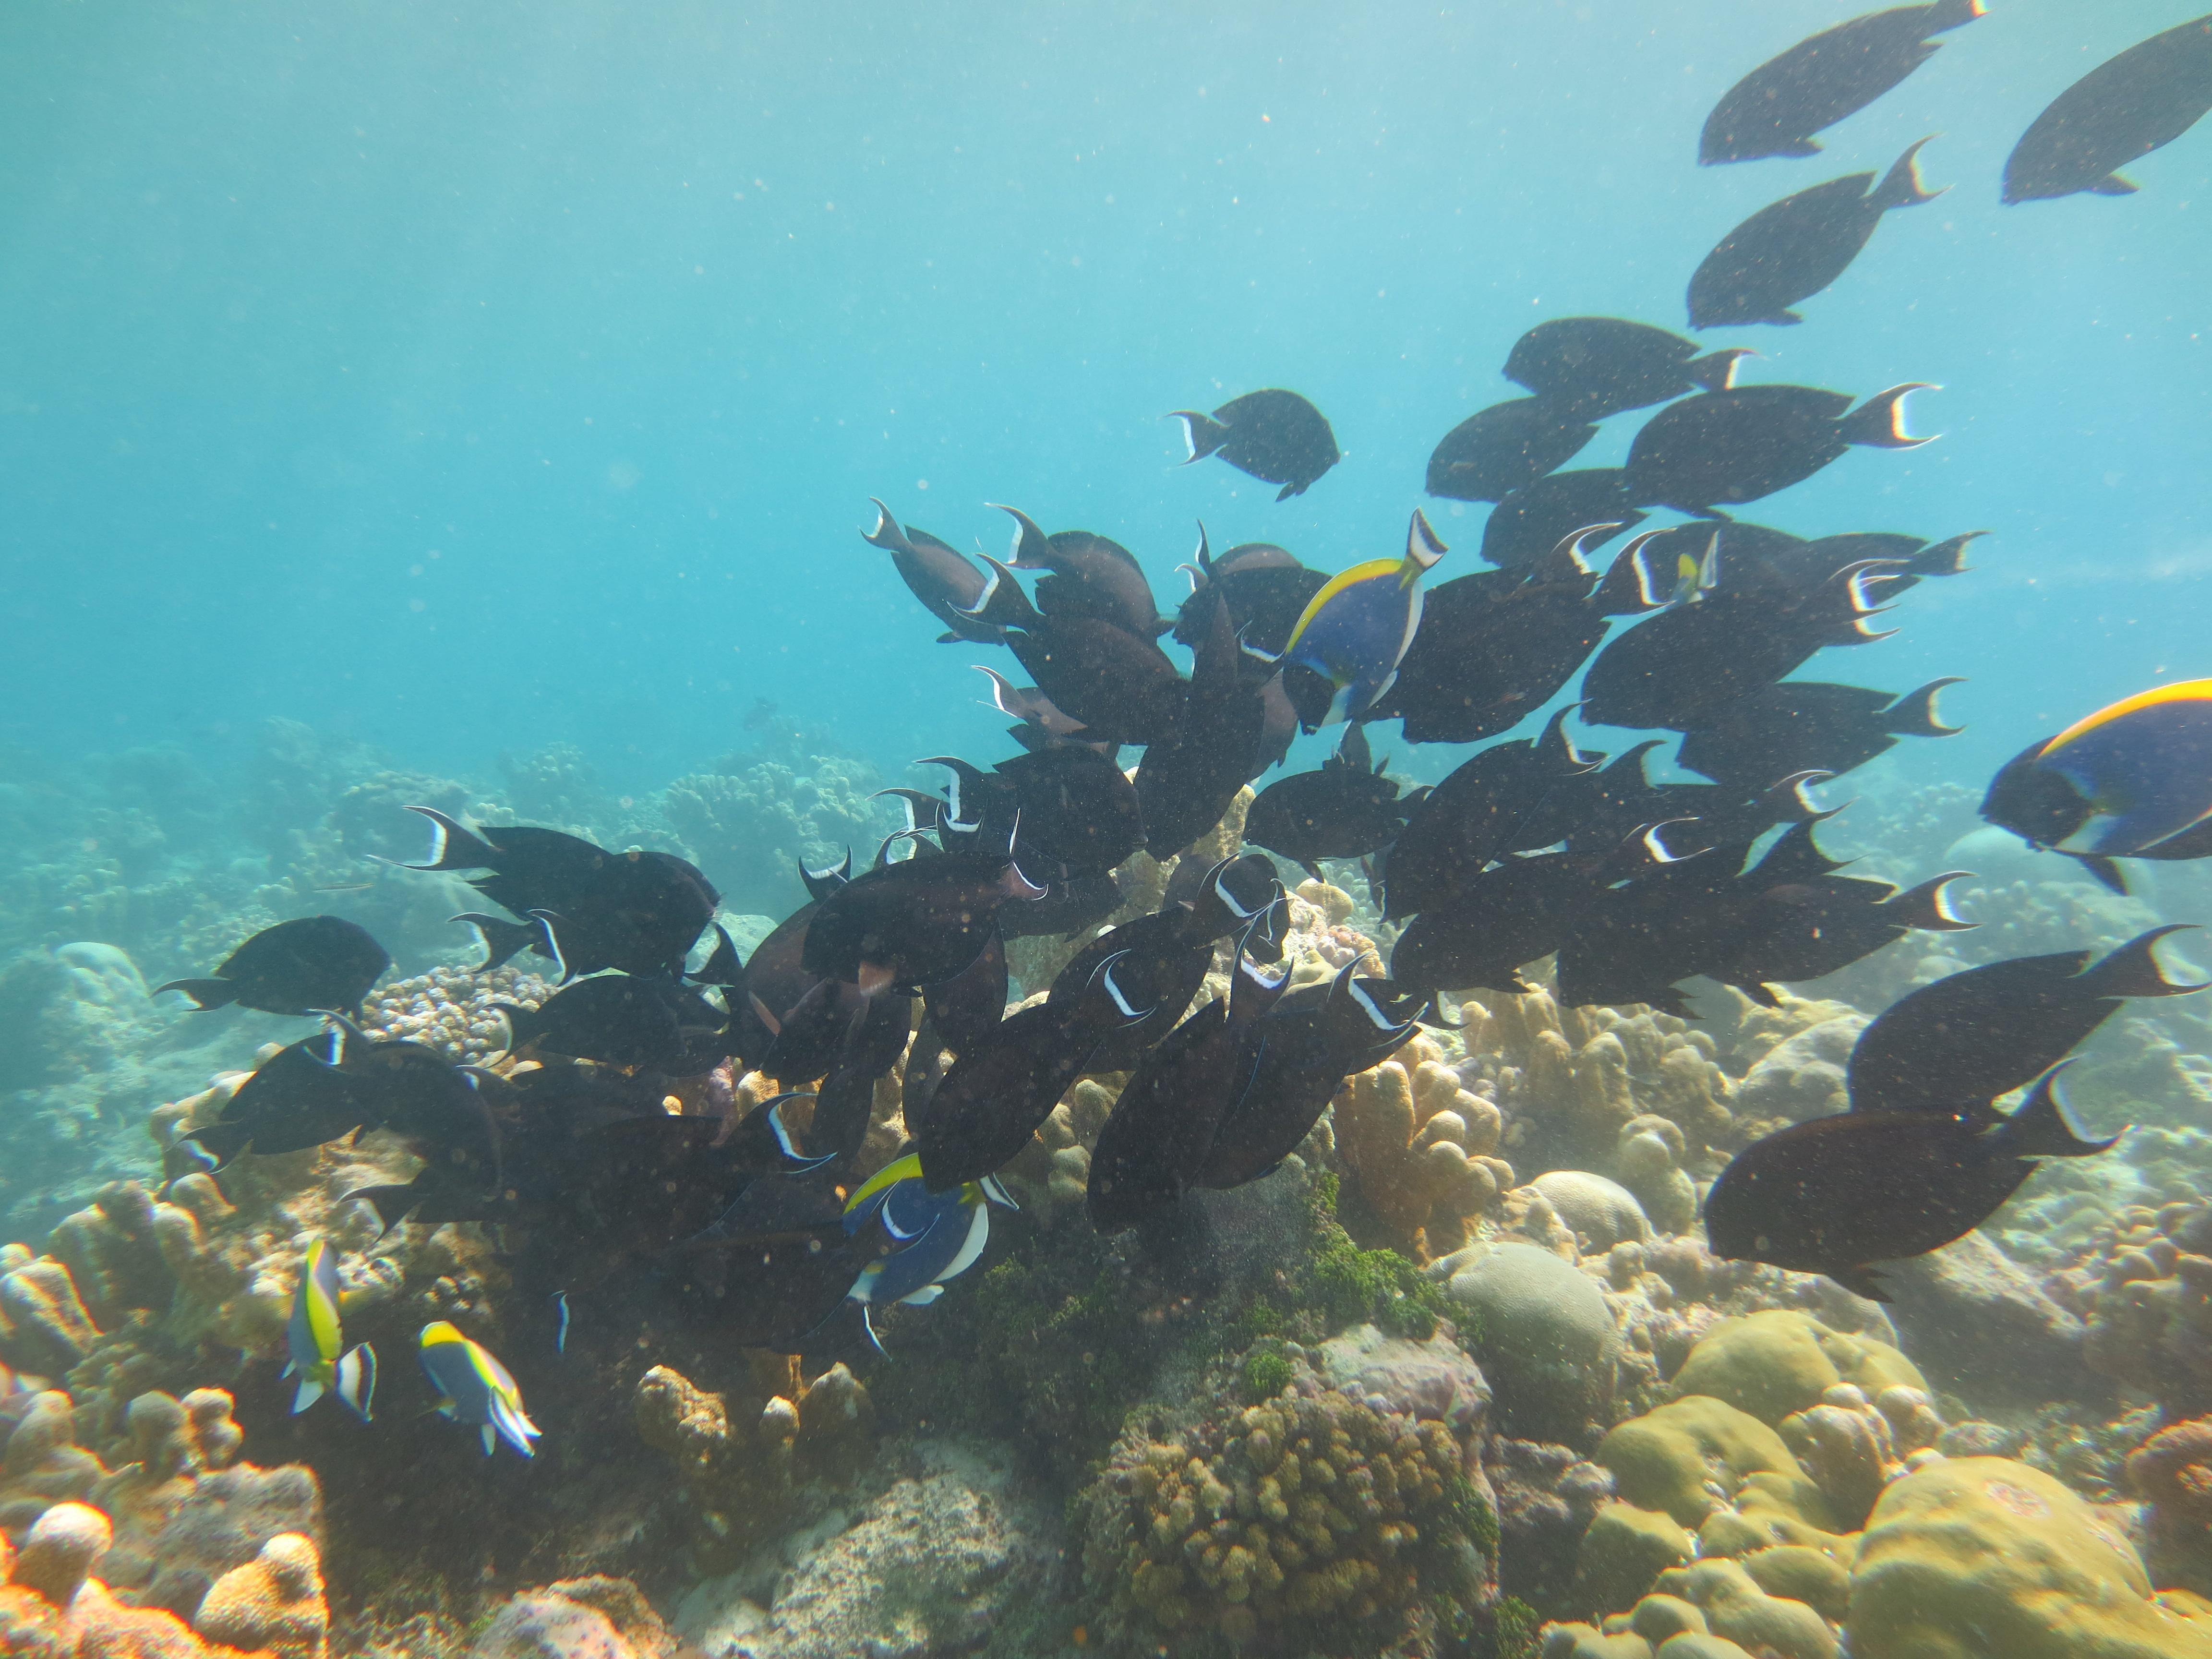Fish: (1245, 514, 1503, 758), (207, 1232, 444, 1464), (1951, 685, 2212, 890), (408, 1297, 620, 1490)
